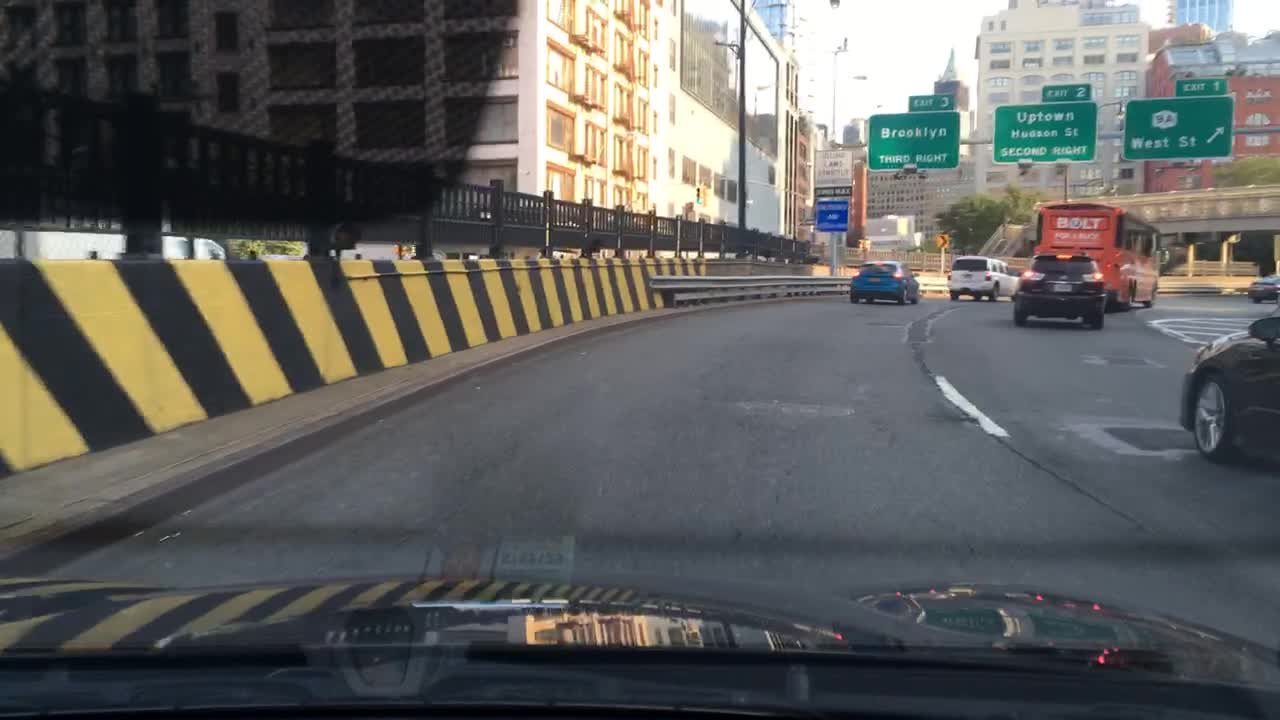bus: (1035, 201, 1164, 308)
car: (1178, 305, 1279, 473), (1015, 253, 1109, 329), (849, 261, 925, 306), (948, 254, 1017, 303), (1248, 274, 1279, 301)
traffic sign: (1124, 96, 1233, 157), (994, 104, 1097, 160), (868, 112, 957, 166), (811, 149, 852, 196), (814, 198, 849, 231), (1176, 77, 1230, 94), (908, 93, 955, 111), (1043, 83, 1088, 101), (936, 234, 949, 246)
